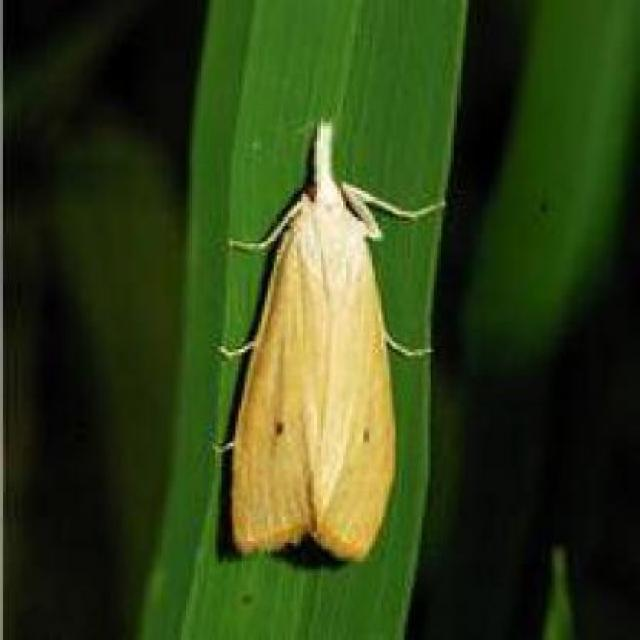stem-borer: (209, 117, 448, 563)
